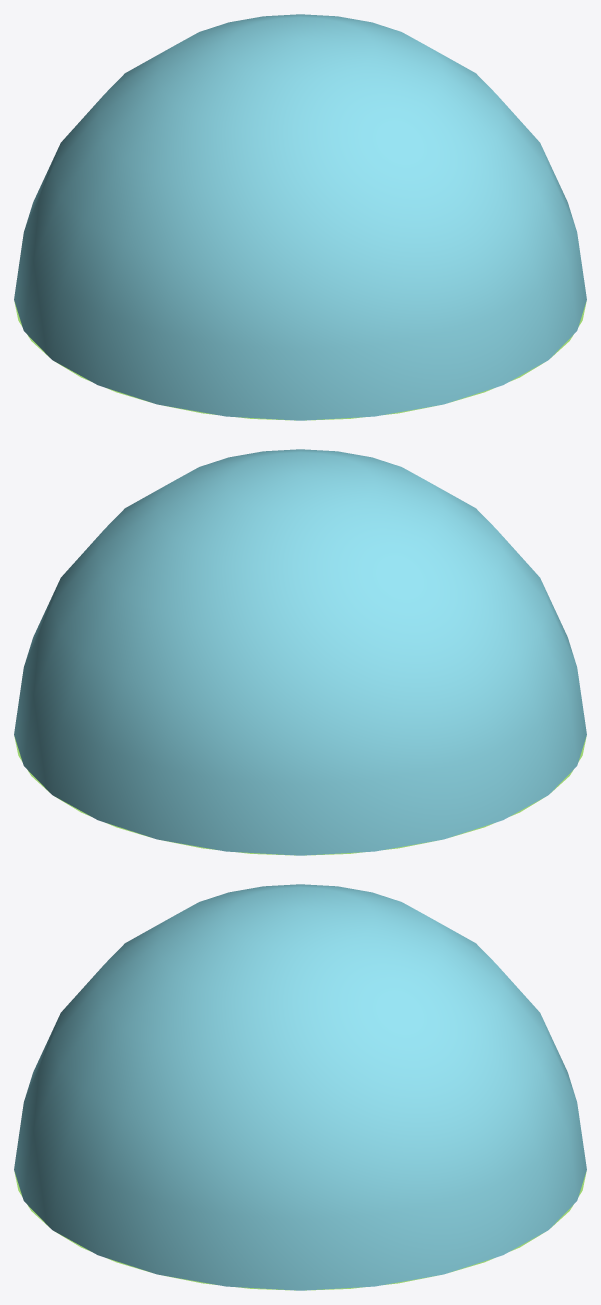
File: modelwithScene.dae
3 renders of one model, top to bottom at view 1: azimuth 30°, elevation 25°; view 2: azimuth 150°, elevation 25°; view 3: azimuth 270°, elevation 25°, orthographic.
Parts seen in each view (by area): view 1: 球体, 圆盘; view 2: 球体, 圆盘; view 3: 球体, 圆盘.
Boxes of the visible parts, box(x1,y1,x2,y2) form: 球体: box(14, 14, 586, 420); 圆盘: box(14, 301, 586, 420); 球体: box(14, 449, 586, 855); 圆盘: box(14, 736, 586, 855); 球体: box(14, 884, 586, 1290); 圆盘: box(14, 1171, 586, 1290).
Bounding box in the file's own units: 20000 × 10000 × 20000.
